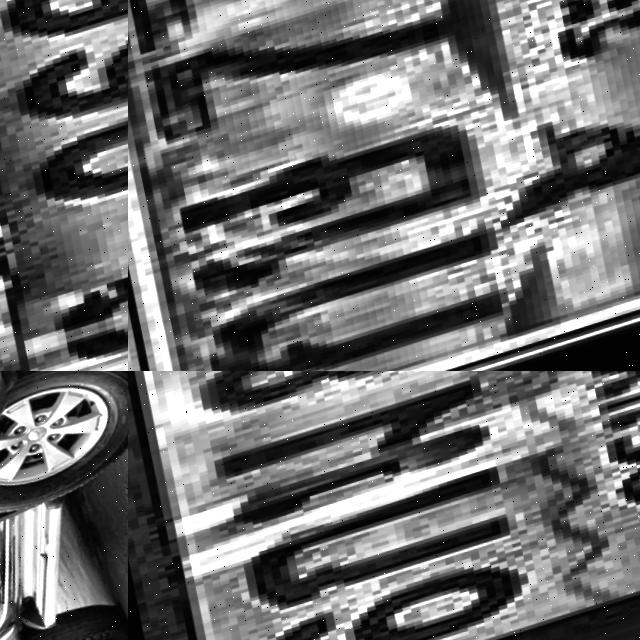license-plate: (128, 0, 640, 371), (128, 371, 640, 640), (0, 0, 128, 371)
